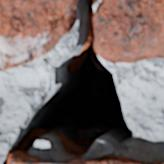brick: (9, 153, 163, 163)
broken_brick: (0, 0, 75, 71), (94, 0, 163, 64)
crack: (0, 0, 163, 163)
